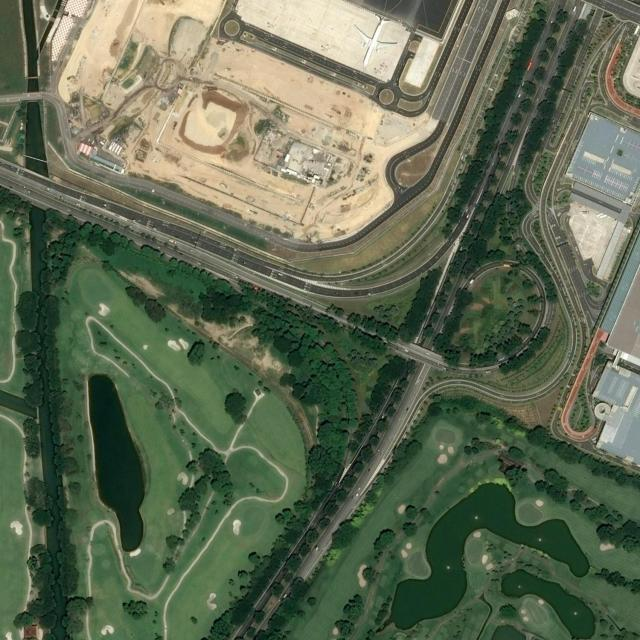Aircraft: (349, 12, 397, 66), (353, 12, 398, 67)
